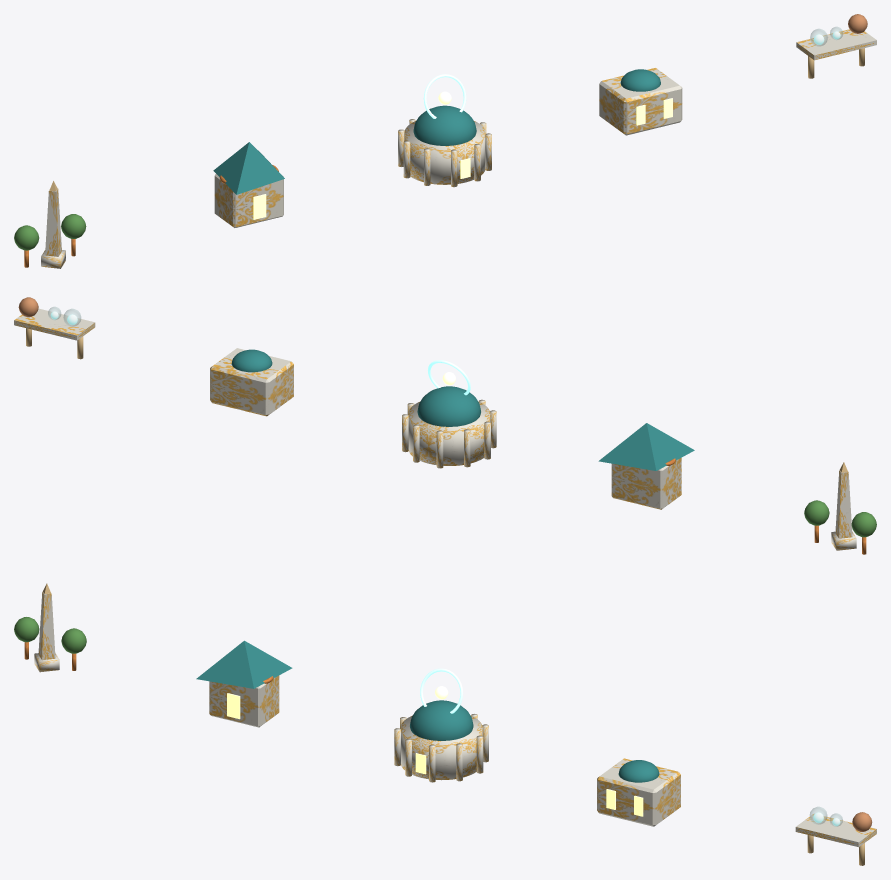
Rendered from teleport-miniatures.glb.
3 views of the same model, one above another, from view 1: azimuth 30°, elevation 25°; view 2: azimuth 150°, elevation 25°; view 3: azimuth 330°, elevation 25° (orthographic).
Visible parts, largest first — view 1: tp_mini_residence_mesh, tp_mini_house_mesh, tp_mini_room_mesh, tp_mini_plaza_mesh, tp_mini_table_mesh; view 2: tp_mini_residence_mesh, tp_mini_house_mesh, tp_mini_room_mesh, tp_mini_plaza_mesh, tp_mini_table_mesh; view 3: tp_mini_residence_mesh, tp_mini_house_mesh, tp_mini_room_mesh, tp_mini_plaza_mesh, tp_mini_table_mesh.
Boxes of the visible parts, x1,y1,x2,y2 form: tp_mini_residence_mesh: (398,74,491,187); tp_mini_house_mesh: (213,142,284,227); tp_mini_room_mesh: (599,68,682,135); tp_mini_plaza_mesh: (14,181,86,268); tp_mini_table_mesh: (796,14,876,78); tp_mini_residence_mesh: (402,360,496,468); tp_mini_house_mesh: (598,423,694,509); tp_mini_room_mesh: (210,348,293,416); tp_mini_plaza_mesh: (804,462,876,554); tp_mini_table_mesh: (14,297,95,359); tp_mini_residence_mesh: (394,668,488,782); tp_mini_house_mesh: (196,640,292,727); tp_mini_room_mesh: (597,758,680,826); tp_mini_plaza_mesh: (14,583,86,672); tp_mini_table_mesh: (795,806,876,865).
Bounding box in the file's own units: 2.17 × 0.2208 × 0.1995.
Materials: 11 (2 with a texture image).
